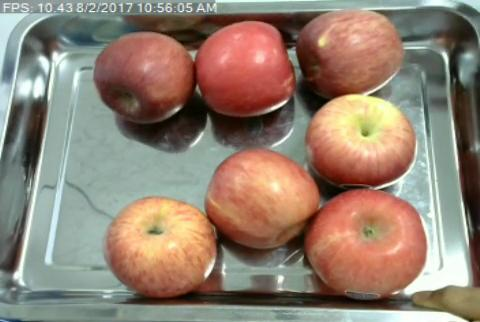apple: (308, 188, 426, 297), (205, 149, 320, 247), (104, 198, 215, 296), (306, 95, 417, 190), (296, 8, 404, 98), (94, 32, 196, 124), (197, 21, 294, 116)
